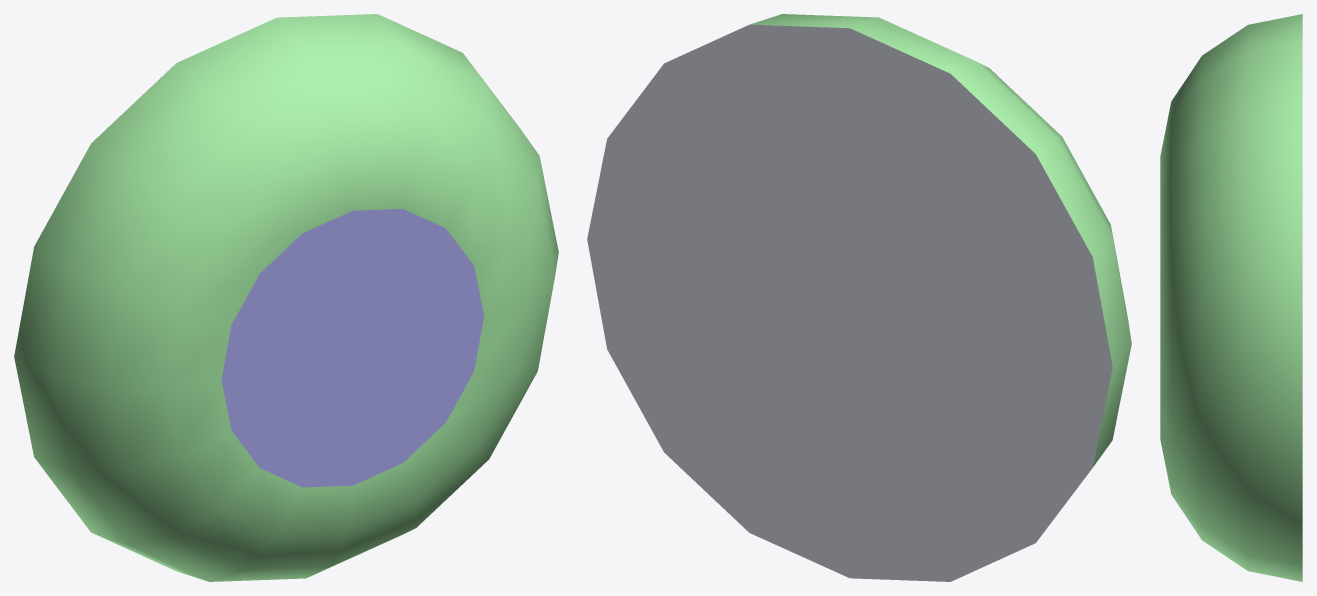
3 views of the same model, side by side, from view 1: azimuth 30°, elevation 25°; view 2: azimuth 150°, elevation 25°; view 3: azimuth 270°, elevation 25° (orthographic). The views are drawn at different scales.
Visible parts, largest first — view 1: mesh8276, mesh8275; view 2: mesh8277, mesh8276; view 3: mesh8276.
Part boxes in pixels (bbox=[...]): mesh8276: bbox=[14, 14, 558, 581]; mesh8275: bbox=[221, 209, 484, 487]; mesh8277: bbox=[587, 24, 1112, 581]; mesh8276: bbox=[750, 14, 1131, 466]; mesh8276: bbox=[1160, 14, 1302, 581].
Size of the model in its own units: 0.008 by 0.008 by 0.002.
